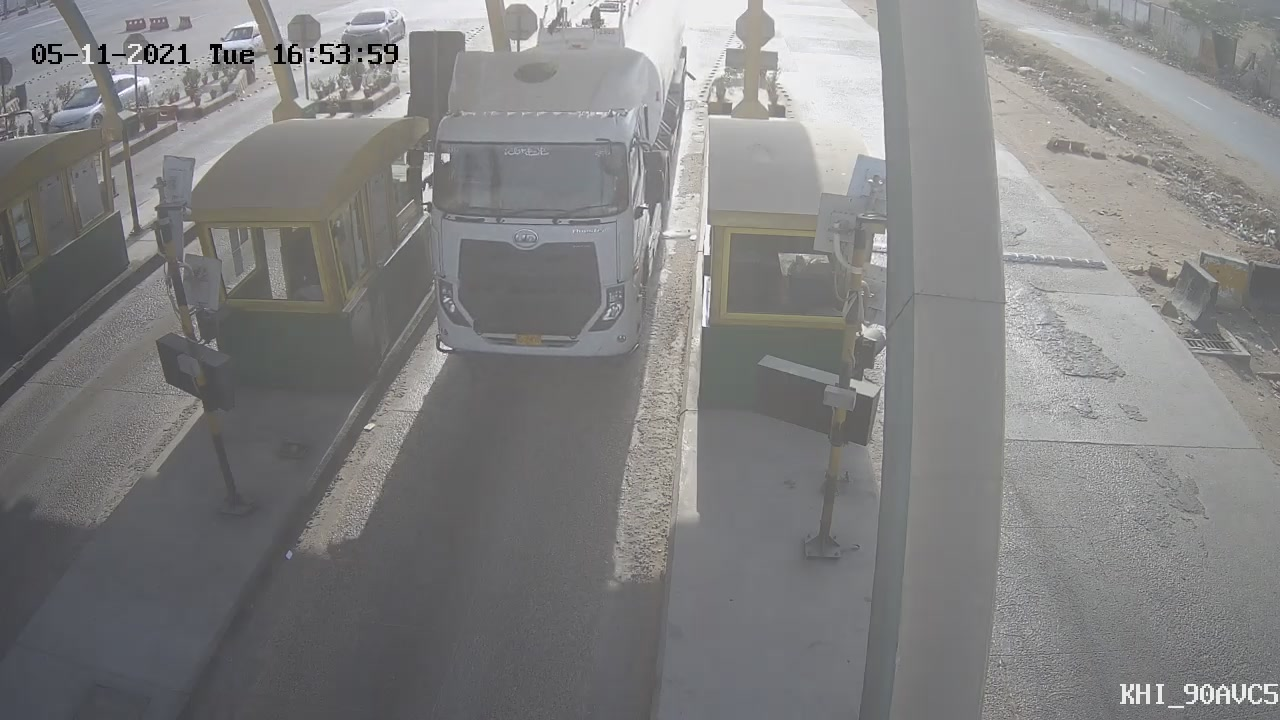F6: (391, 4, 705, 378)
